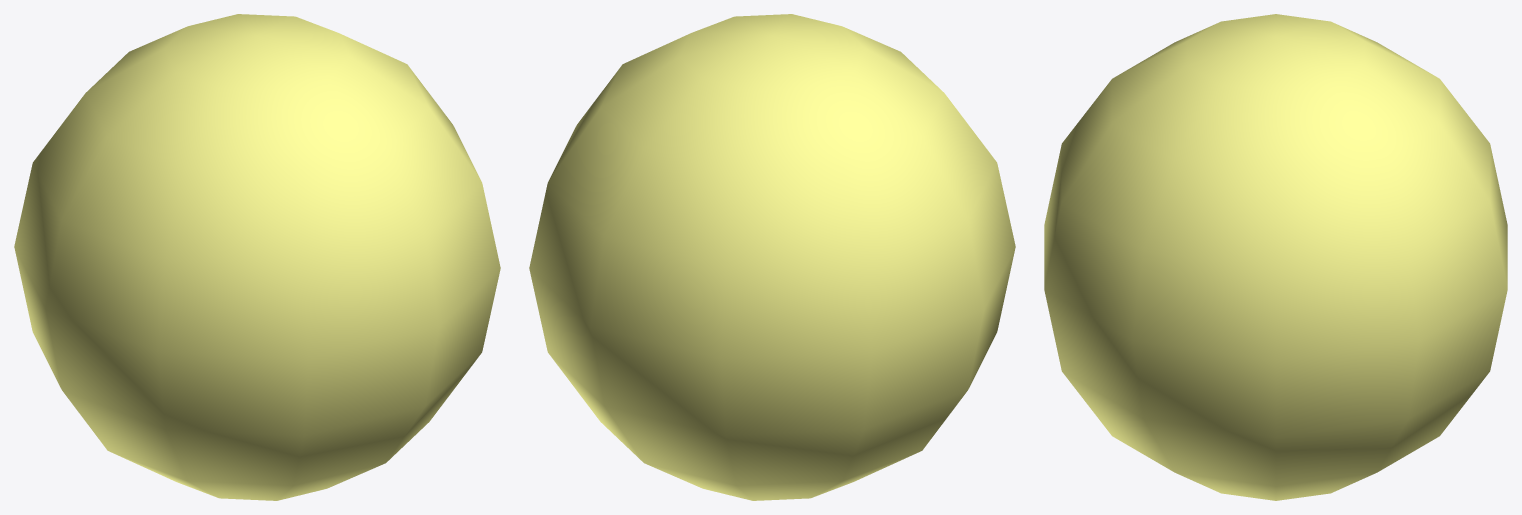
Rendered from candeira_stage2.obj.
3 views of the same model, side by side, from view 1: azimuth 30°, elevation 25°; view 2: azimuth 150°, elevation 25°; view 3: azimuth 270°, elevation 25° (orthographic).
Size of the model in its own units: 2 by 2 by 1.9.
